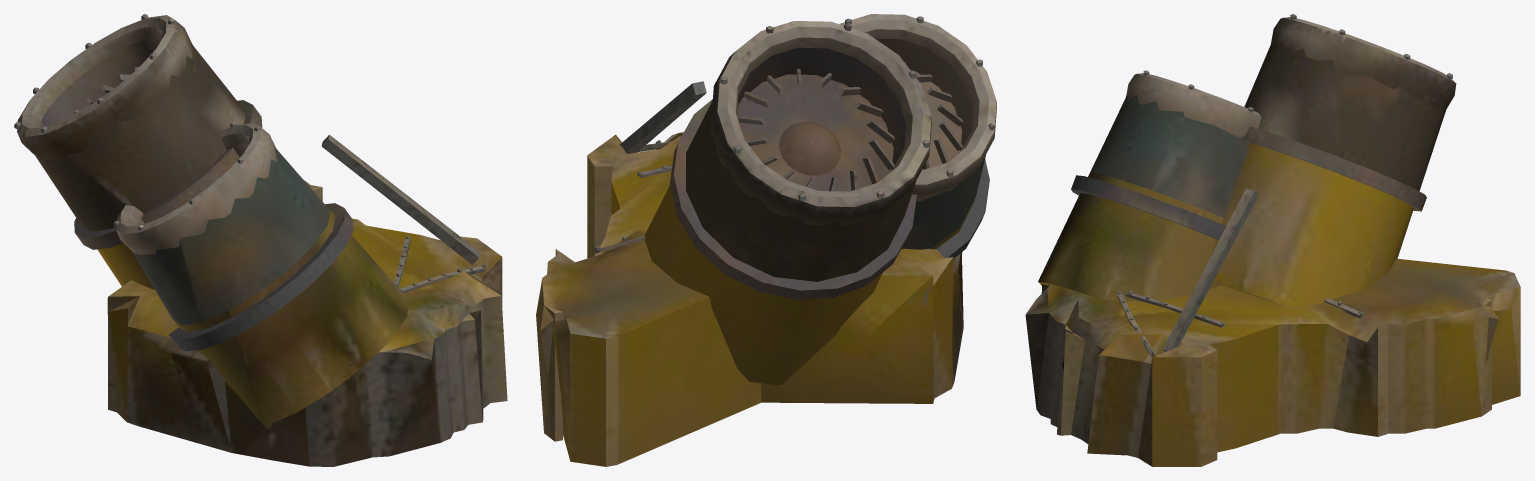
File: crash-site-spaceship-wreck-big-2.glb
3 views of the same model, side by side, from view 1: azimuth 30°, elevation 25°; view 2: azimuth 150°, elevation 25°; view 3: azimuth 270°, elevation 25° (orthographic). The views are drawn at different scales.
Parts seen in each view (by area): view 1: body; view 2: body; view 3: body.
Part boxes in pixels (x1,y1,x2,y2): body: [14, 14, 507, 466]; body: [536, 14, 996, 466]; body: [1025, 14, 1520, 466].
Size of the model in its own units: 2.74 by 2.39 by 3.27.
1 material, 1 textured.
